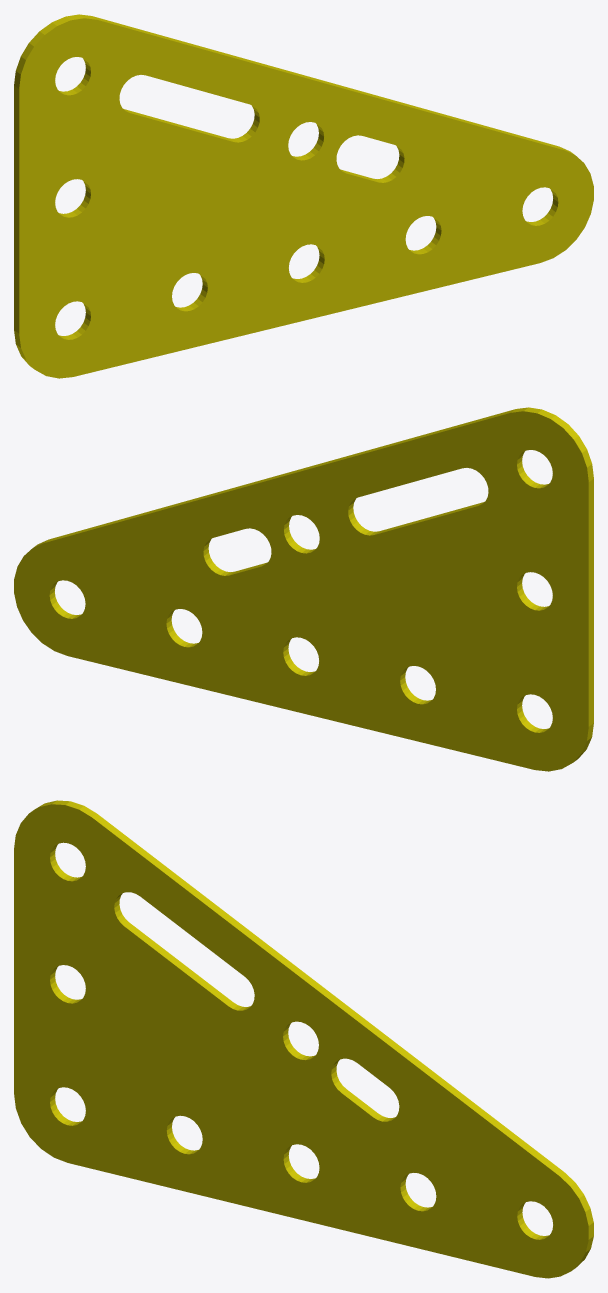
The model's file is TamGiac_3x5_KimLoai_Vang.glb.
3 renders of one model, top to bottom at view 1: azimuth 30°, elevation 25°; view 2: azimuth 150°, elevation 25°; view 3: azimuth 330°, elevation 25°, orthographic.
Visible parts, largest first — view 1: defaultobject.001; view 2: defaultobject.001; view 3: defaultobject.001.
Part boxes in pixels (x1,y1,x2,y2): defaultobject.001: (14,14,593,378); defaultobject.001: (14,407,593,771); defaultobject.001: (14,800,593,1278).
Size of the model in its own units: 196 by 116 by 3.06.
